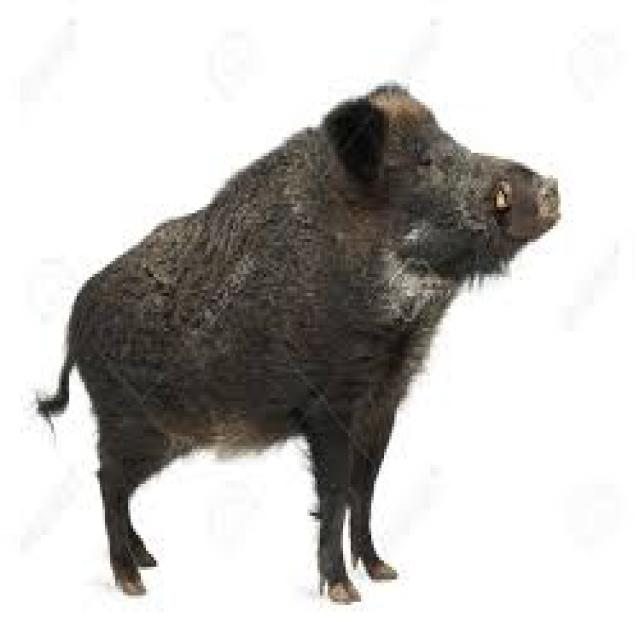boar: (30, 29, 565, 640)
